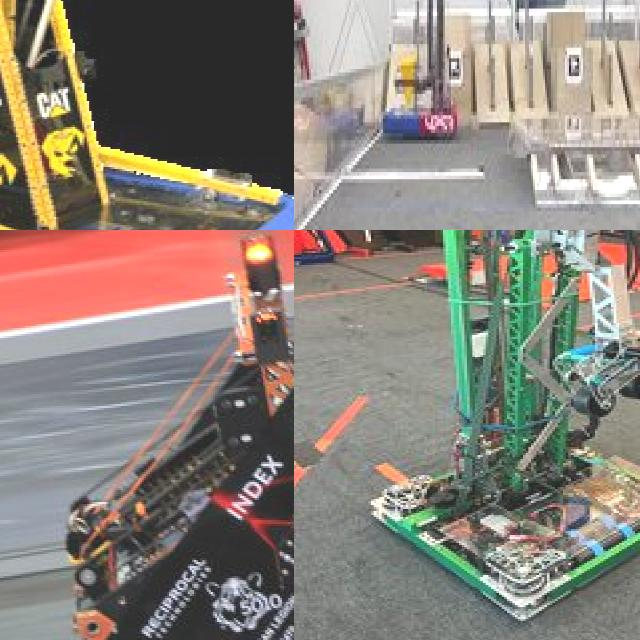FRC-Robots: (0, 230, 294, 640), (343, 230, 640, 633), (0, 0, 294, 230), (362, 0, 464, 134)
